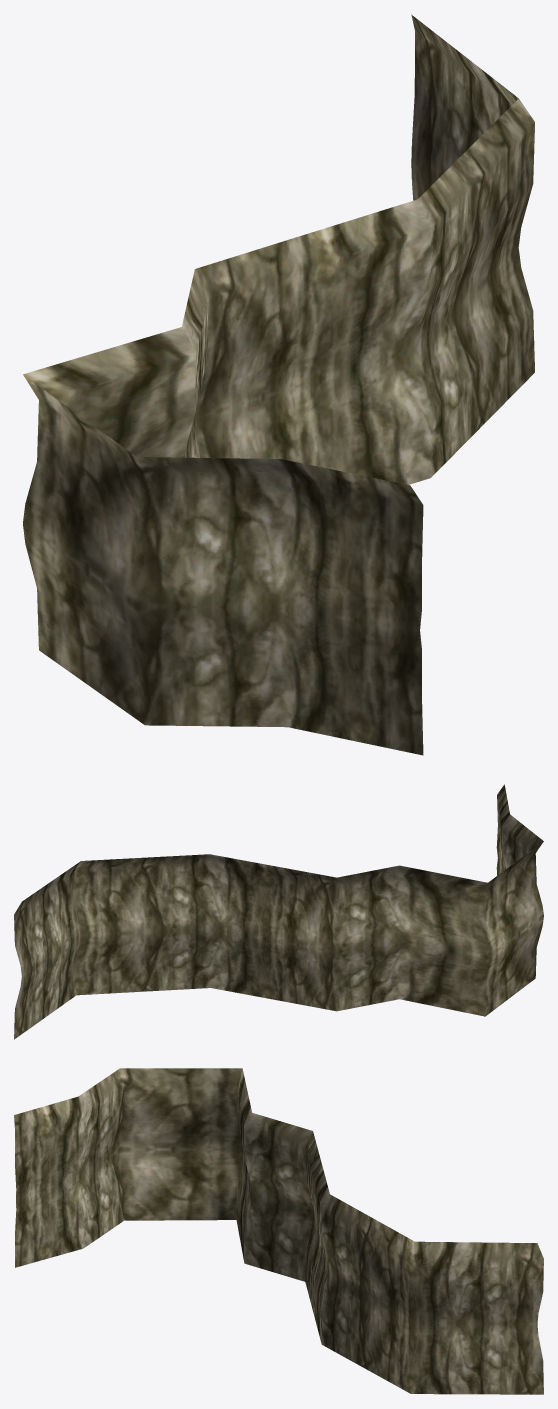
File: CB_NEWPLAYSURFACE_CB_PLAYSURFACE43.fbx
3 renders of one model, top to bottom at view 1: azimuth 30°, elevation 25°; view 2: azimuth 150°, elevation 25°; view 3: azimuth 270°, elevation 25°, orthographic. The views are drawn at different scales.
Parts seen in each view (by area): view 1: CB_NEWPLAYSURFACE_CB_PLAYSURFACE43; view 2: CB_NEWPLAYSURFACE_CB_PLAYSURFACE43; view 3: CB_NEWPLAYSURFACE_CB_PLAYSURFACE43.
Boxes of the visible parts, bbox=[...] form: CB_NEWPLAYSURFACE_CB_PLAYSURFACE43: bbox=[23, 14, 534, 755]; CB_NEWPLAYSURFACE_CB_PLAYSURFACE43: bbox=[14, 784, 543, 1039]; CB_NEWPLAYSURFACE_CB_PLAYSURFACE43: bbox=[14, 1068, 543, 1394].
Bounding box in the file's own units: 187882 × 73541 × 237125.
1 material, 1 textured.
